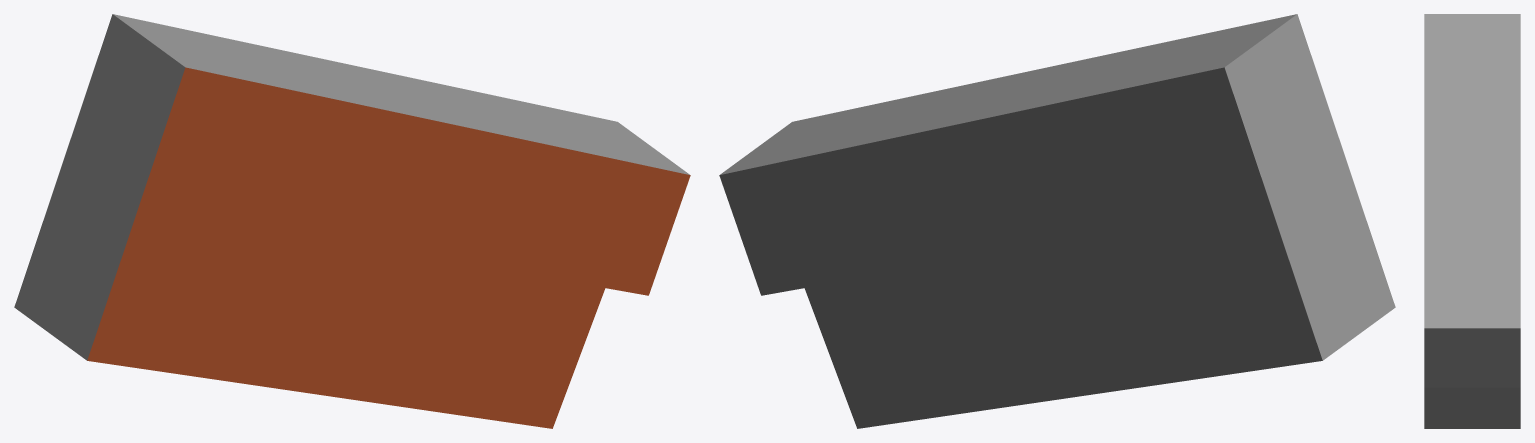
File: construction_2703_assumed_A_Casa_h6m.obj
3 views of the same model, side by side, from view 1: azimuth 30°, elevation 25°; view 2: azimuth 150°, elevation 25°; view 3: azimuth 270°, elevation 25° (orthographic). The views are drawn at different scales.
Visible parts, largest first — view 1: construction_2703_assumed_A_Casa; view 2: construction_2703_assumed_A_Casa; view 3: construction_2703_assumed_A_Casa.
Part boxes in pixels (x1=…): construction_2703_assumed_A_Casa: x1=14, y1=14, x2=690, y2=428; construction_2703_assumed_A_Casa: x1=719, y1=14, x2=1395, y2=428; construction_2703_assumed_A_Casa: x1=1424, y1=14, x2=1520, y2=428.
Size of the model in its own units: 28.66 by 20.47 by 6.
